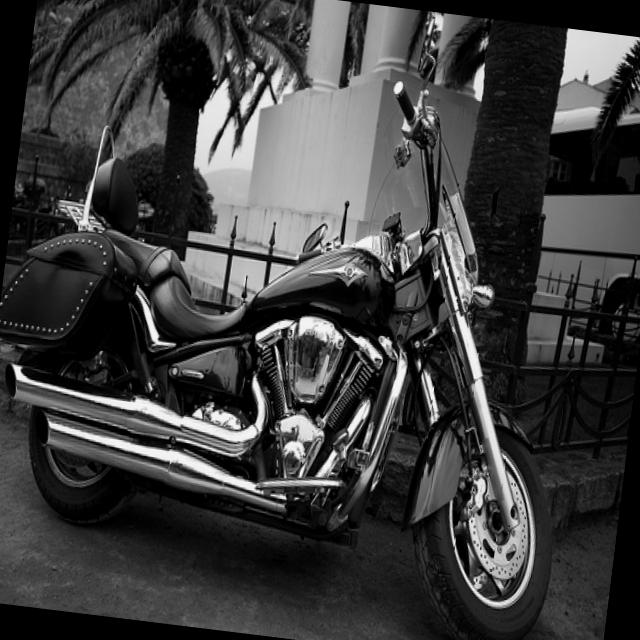Vehicle: (0, 21, 610, 640), (528, 90, 640, 330)
